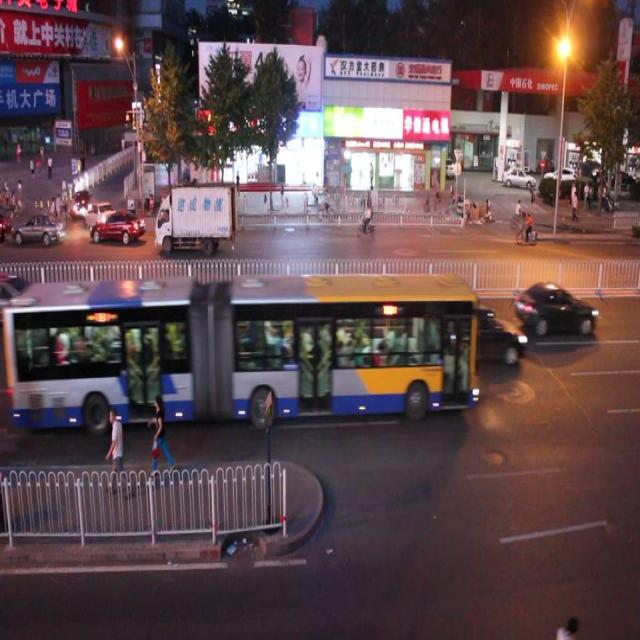bus: (153, 181, 238, 253)
car: (437, 303, 523, 365), (512, 277, 596, 338), (166, 185, 223, 232), (11, 202, 65, 241), (90, 209, 146, 244), (83, 194, 118, 231), (70, 182, 94, 217)
van: (10, 275, 473, 416)
